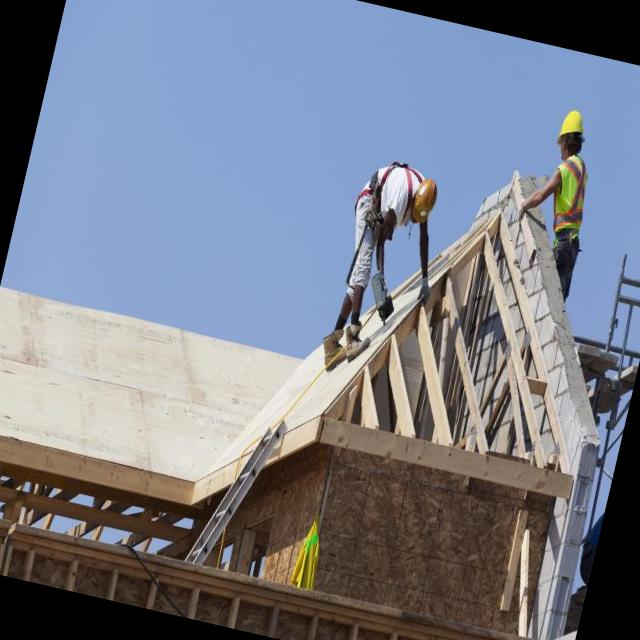Gloves: (414, 278, 434, 304)
Helmet: (411, 176, 442, 228), (558, 98, 590, 144)
Vest: (542, 150, 594, 240)
